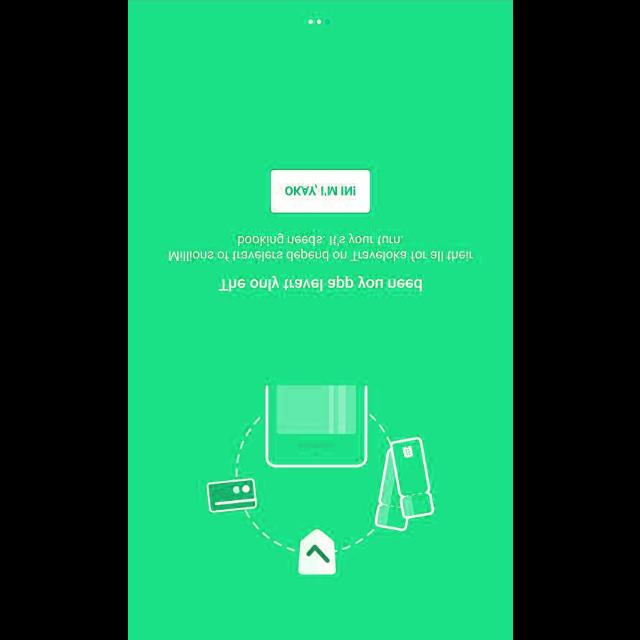image: (204, 384, 433, 574)
pageindicator: (308, 18, 330, 24)
text: (168, 232, 472, 262), (218, 274, 422, 292)
textbutton: (270, 169, 370, 213)
